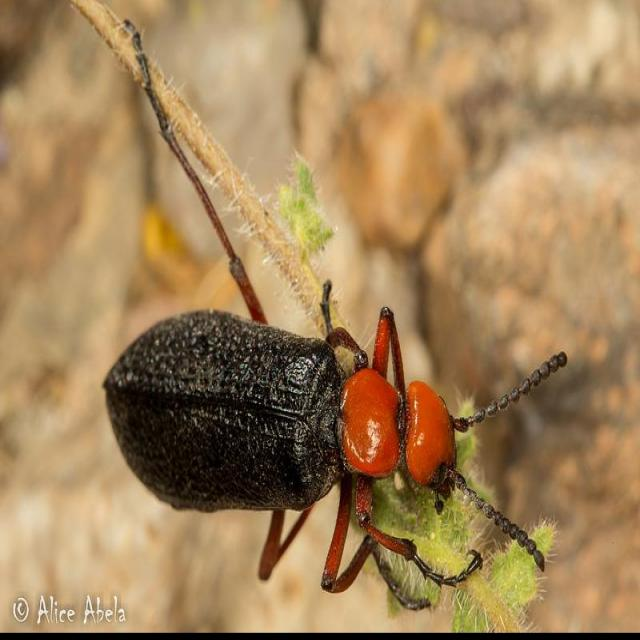BlisterBeetle-Adult-: (92, 274, 567, 612)
